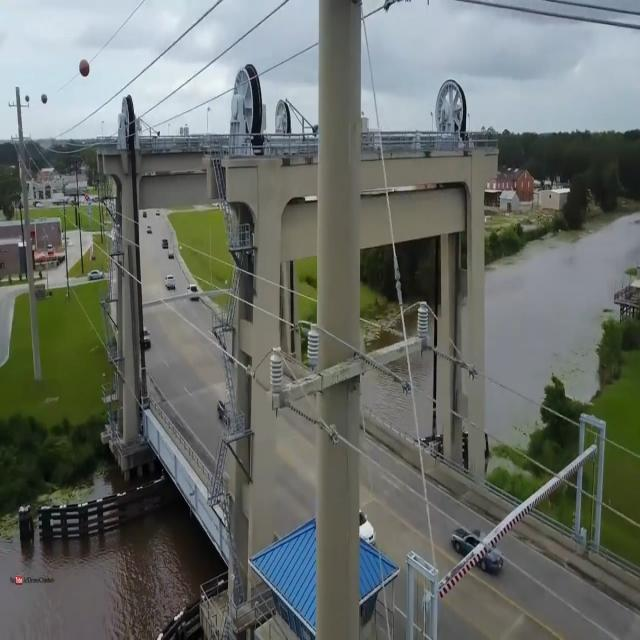Building: (194, 62, 498, 620), (86, 73, 225, 484), (412, 398, 614, 640), (246, 504, 409, 640)
Pole: (317, 0, 361, 640), (13, 88, 46, 382)
Vehicle: (446, 524, 505, 578), (360, 502, 376, 547)
